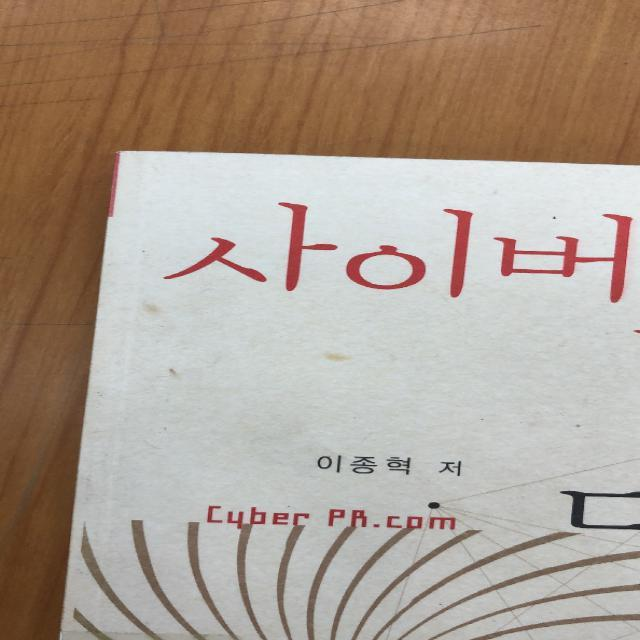Wornout: (110, 145, 194, 164)
